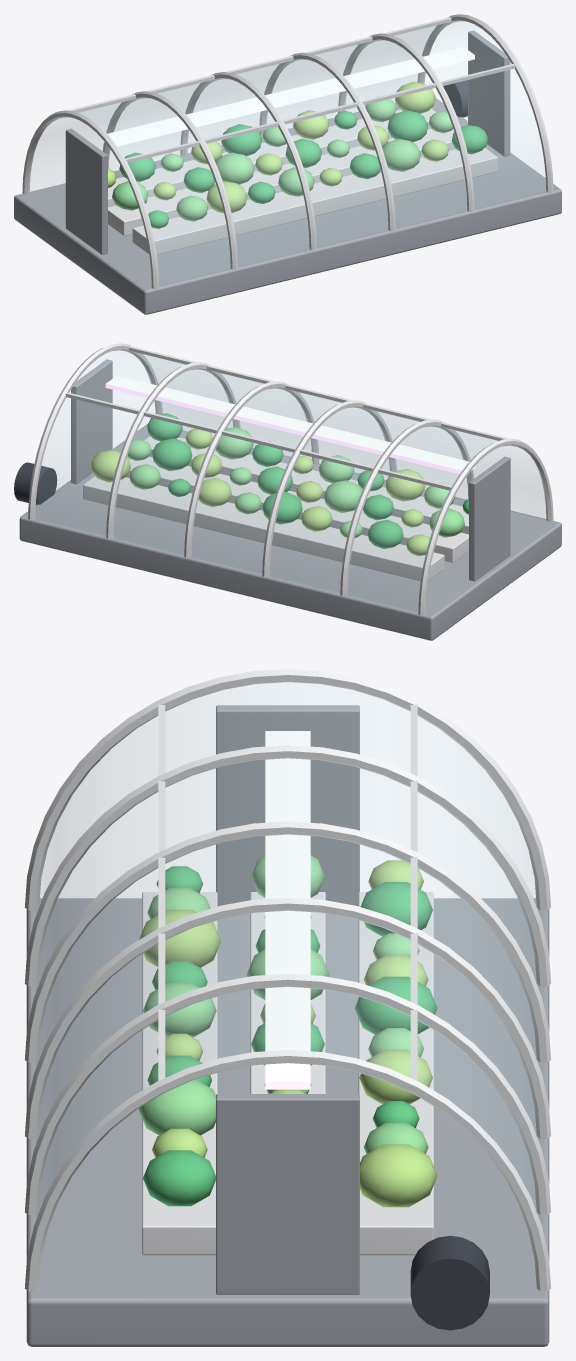
File: invernadero.glb
3 renders of one model, top to bottom at view 1: azimuth 30°, elevation 25°; view 2: azimuth 150°, elevation 25°; view 3: azimuth 270°, elevation 25°, orthographic. The views are drawn at different scales.
Parts seen in each view (by area): view 1: cubierta, plataforma, Cube.021, luz, Cube.024, Cube.025, Cube.022, Cube.023, Torus.004, Torus.006, Torus.007, Torus.008 (+27 smaller); view 2: cubierta, plataforma, Cube.023, luz, Cube.024, Cube.025, Cube.022, Cube.021, Torus.004, Torus.007, Cube.020, Torus.009 (+28 smaller); view 3: cubierta, plataforma, Cube.025, Cube.024, luz, Torus.009, Torus.005, Torus.006, Torus.004, Torus.007, Torus.008, Cube.021 (+24 smaller).
Part boxes in pixels (bbox=[...]): cubierta: bbox=[30, 21, 545, 285]; plataforma: bbox=[14, 98, 561, 314]; Cube.021: bbox=[132, 148, 497, 254]; luz: bbox=[101, 47, 474, 146]; Cube.024: bbox=[65, 128, 107, 254]; Cube.025: bbox=[468, 30, 510, 156]; Cube.022: bbox=[108, 128, 455, 235]; Cube.023: bbox=[108, 108, 436, 207]; Torus.004: bbox=[22, 110, 158, 288]; Torus.006: bbox=[180, 72, 316, 250]; Torus.007: bbox=[259, 52, 395, 231]; Torus.008: bbox=[338, 33, 474, 211]; cubierta: bbox=[36, 350, 545, 611]; plataforma: bbox=[19, 424, 561, 640]; Cube.023: bbox=[83, 476, 444, 581]; luz: bbox=[105, 375, 475, 473]; Cube.024: bbox=[469, 456, 510, 581]; Cube.025: bbox=[71, 359, 112, 484]; Cube.022: bbox=[126, 456, 468, 562]; Cube.021: bbox=[144, 436, 468, 534]; Torus.004: bbox=[418, 438, 553, 615]; Torus.007: bbox=[184, 381, 319, 557]; Cube.020: bbox=[65, 392, 451, 490]; Torus.009: bbox=[28, 343, 162, 519]; cubierta: bbox=[36, 682, 539, 1218]; plataforma: bbox=[26, 898, 549, 1346]; Cube.025: bbox=[216, 1094, 359, 1294]; Cube.024: bbox=[216, 705, 359, 905]; luz: bbox=[265, 731, 310, 1089]; Torus.009: bbox=[24, 1050, 551, 1291]; Torus.005: bbox=[24, 745, 551, 986]; Torus.006: bbox=[24, 821, 551, 1062]; Torus.004: bbox=[24, 669, 551, 910]; Torus.007: bbox=[25, 897, 550, 1138]; Torus.008: bbox=[25, 974, 550, 1214]; Cube.021: bbox=[142, 892, 217, 1255].
Size of the model in its own units: 5.55 by 1.76 by 2.92.
